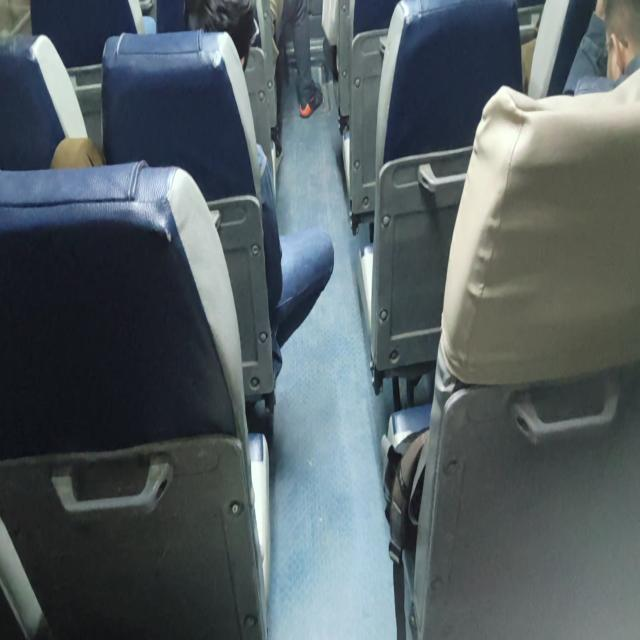person: (156, 0, 259, 71), (591, 0, 640, 90)
